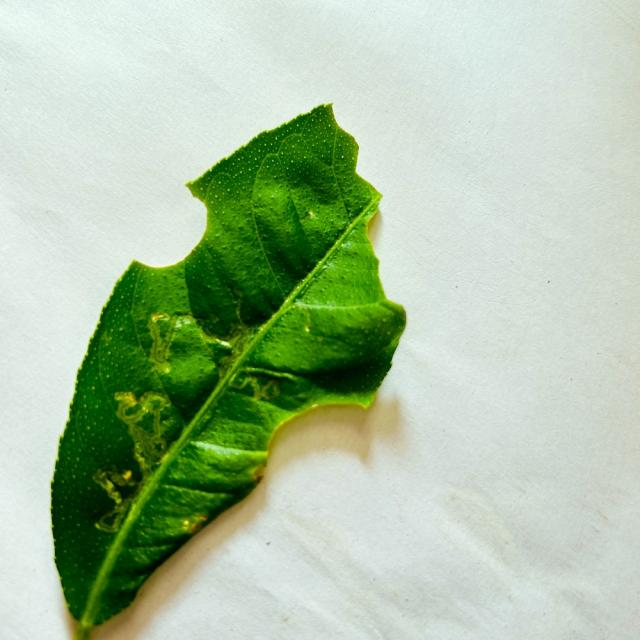Deficiency Leaf: (326, 98, 445, 318), (264, 406, 370, 477), (136, 188, 205, 266), (380, 98, 410, 134), (403, 137, 422, 148), (410, 134, 424, 143), (393, 132, 403, 138)
Lemon: (52, 105, 406, 639)
